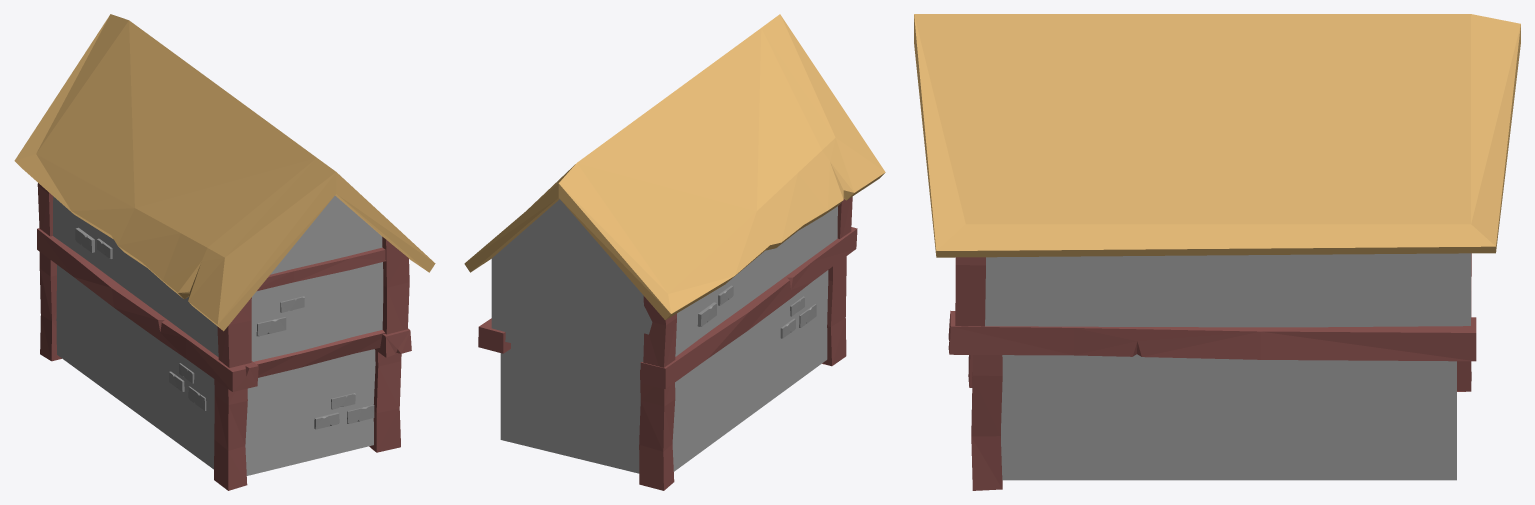
The model's file is GEO_ENV_House.fbx.
3 renders of one model, left to right at view 1: azimuth 30°, elevation 25°; view 2: azimuth 150°, elevation 25°; view 3: azimuth 270°, elevation 25°, orthographic. The views are drawn at different scales.
Visible parts, largest first — view 1: GEO_ENV_House; view 2: GEO_ENV_House; view 3: GEO_ENV_House.
Part boxes in pixels (x1,y1,x2,y2): GEO_ENV_House: (14, 14, 435, 490); GEO_ENV_House: (464, 14, 885, 490); GEO_ENV_House: (914, 14, 1520, 490).
Bounding box in the file's own units: 5.89 × 7.98 × 10.44.
